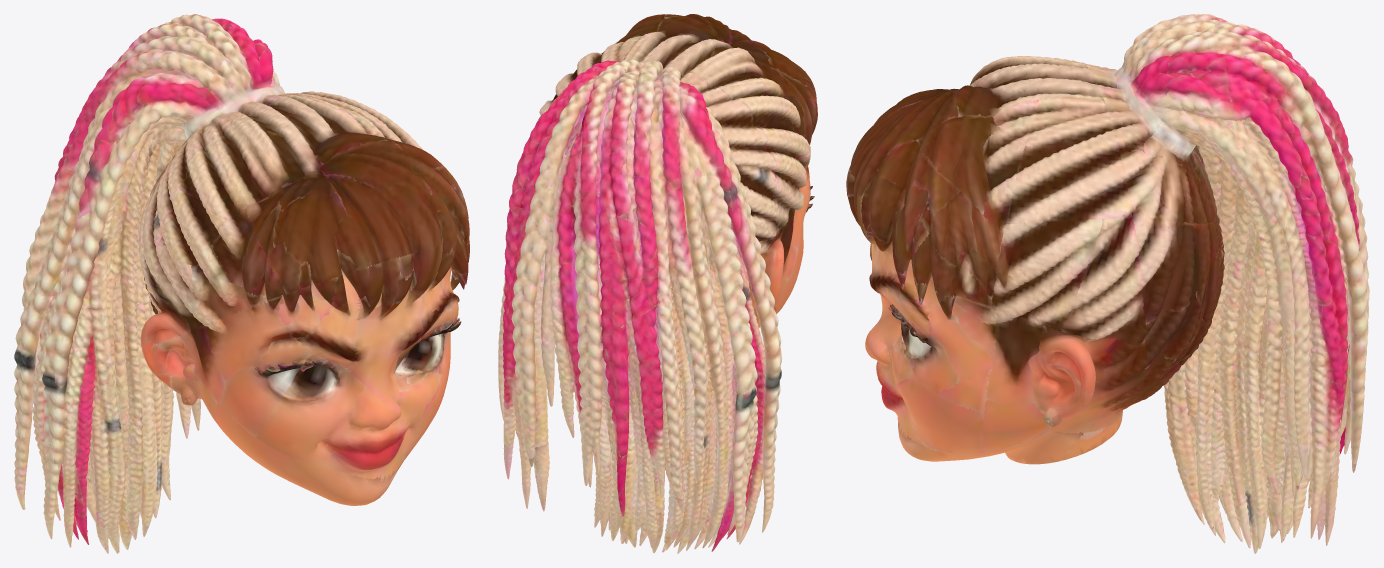
File: planet-01.opt.glb
The picture shows the model from 3 angles, left to right: view 1: azimuth 30°, elevation 25°; view 2: azimuth 150°, elevation 25°; view 3: azimuth 270°, elevation 25°; orthographic projection. The views are drawn at different scales.
Size of the model in its own units: 1.28 by 1.9 by 1.64.
Materials: 1 (1 with a texture image).
